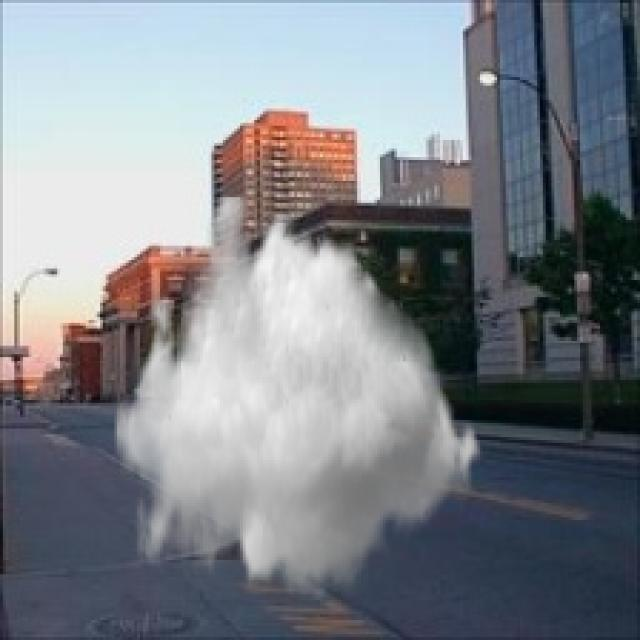smoke: (114, 194, 489, 600)
